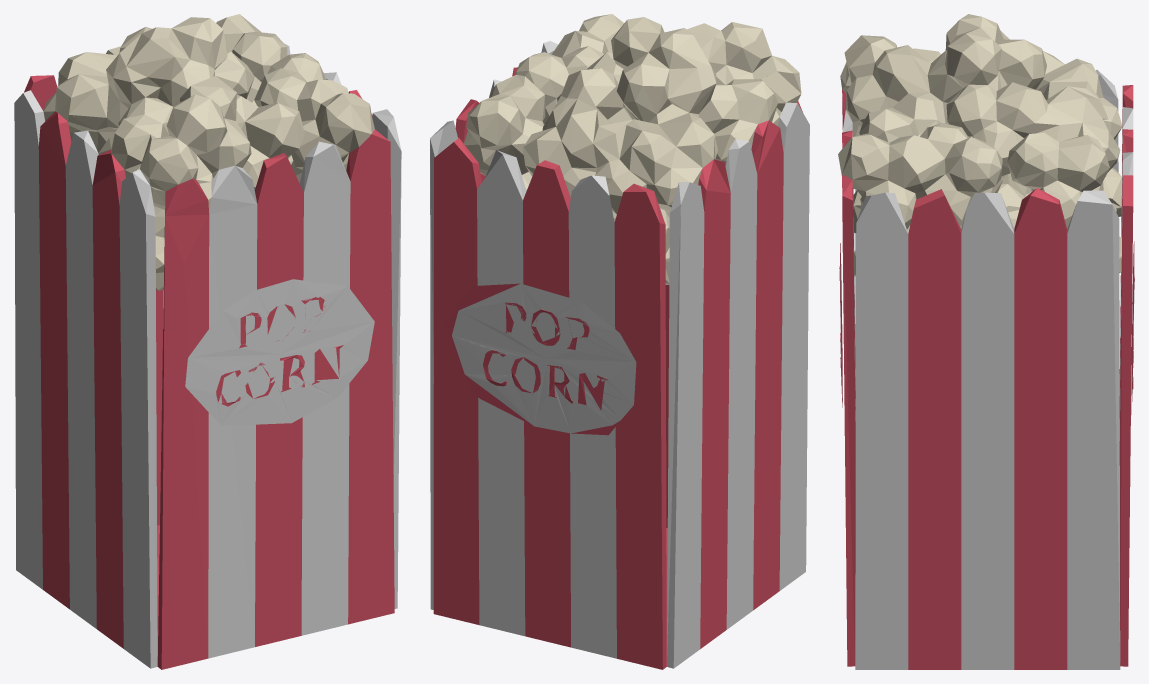
Rendered from popcorn.glb.
3 views of the same model, side by side, from view 1: azimuth 30°, elevation 25°; view 2: azimuth 150°, elevation 25°; view 3: azimuth 270°, elevation 25° (orthographic).
Visible parts, largest first — view 1: Mesh_Mesh_head_geo001_lambert2SG001; view 2: Mesh_Mesh_head_geo001_lambert2SG001; view 3: Mesh_Mesh_head_geo001_lambert2SG001.
Part boxes in pixels (x1=…): Mesh_Mesh_head_geo001_lambert2SG001: x1=14, y1=14, x2=401, y2=669; Mesh_Mesh_head_geo001_lambert2SG001: x1=430, y1=14, x2=809, y2=669; Mesh_Mesh_head_geo001_lambert2SG001: x1=838, y1=14, x2=1134, y2=669.
Bounding box in the file's own units: 110 × 237 × 112.
